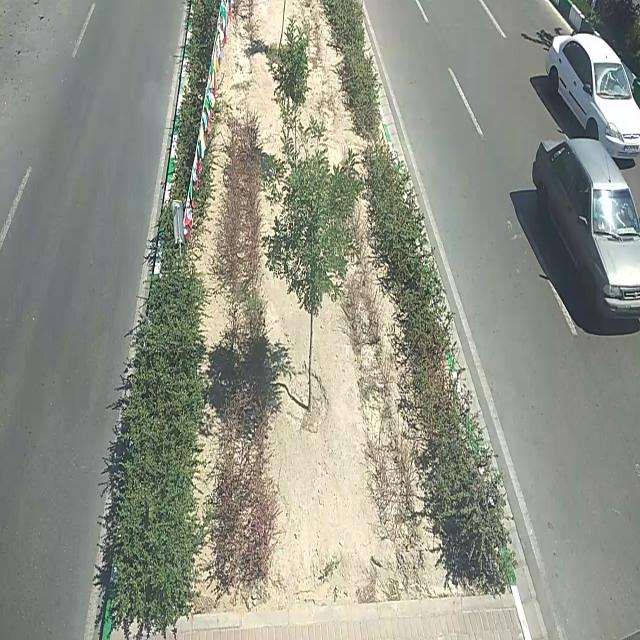car: (530, 140, 640, 324), (542, 28, 639, 165)
